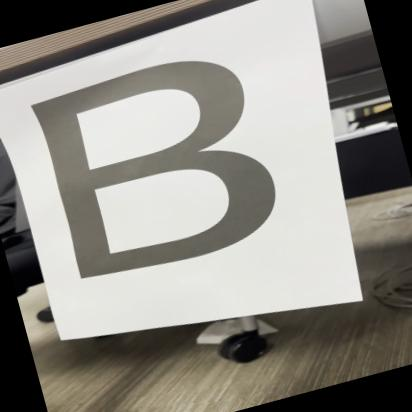seat: (20, 28, 304, 304)
